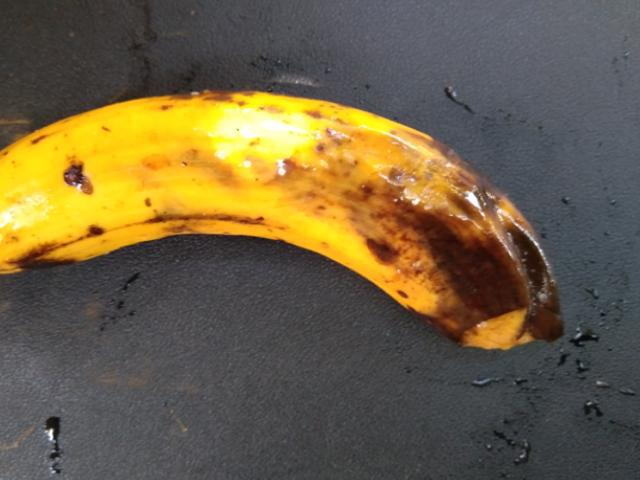overripe: (0, 71, 335, 295)
rotten: (268, 93, 564, 364)
